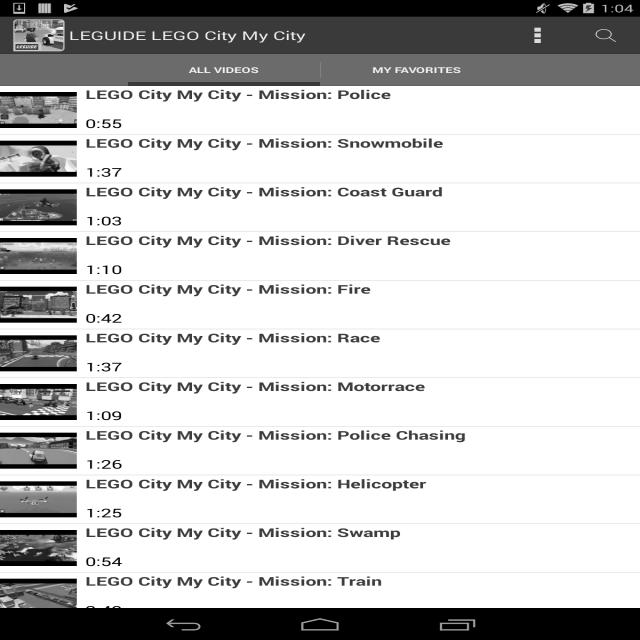ImageView: (0, 86, 77, 134), (0, 134, 77, 182), (0, 184, 77, 232), (0, 232, 77, 280), (0, 280, 77, 328), (0, 330, 77, 378), (0, 378, 77, 426), (0, 426, 77, 474), (0, 476, 77, 524), (0, 524, 77, 572), (0, 572, 77, 620), (14, 19, 64, 52)
TextView: (85, 427, 466, 443), (85, 183, 443, 200), (85, 232, 451, 248), (85, 475, 426, 492), (86, 135, 443, 151), (85, 378, 426, 394), (86, 524, 400, 540), (86, 329, 380, 346), (85, 86, 391, 102), (85, 573, 382, 589), (85, 281, 371, 297), (68, 27, 306, 43), (571, 16, 640, 54), (503, 17, 572, 54), (85, 102, 269, 115), (85, 151, 269, 164), (85, 248, 269, 261), (85, 297, 269, 310), (85, 394, 269, 407), (85, 443, 269, 456), (85, 540, 269, 553), (85, 589, 269, 602), (85, 200, 269, 212), (85, 346, 269, 358), (85, 492, 269, 504), (372, 64, 462, 76), (188, 64, 258, 76), (85, 212, 122, 229), (85, 358, 122, 375), (85, 504, 122, 521), (85, 115, 122, 131), (85, 164, 122, 180), (85, 261, 122, 277), (85, 310, 122, 326), (85, 407, 122, 423), (85, 456, 122, 472), (85, 553, 122, 569), (85, 602, 122, 618)
